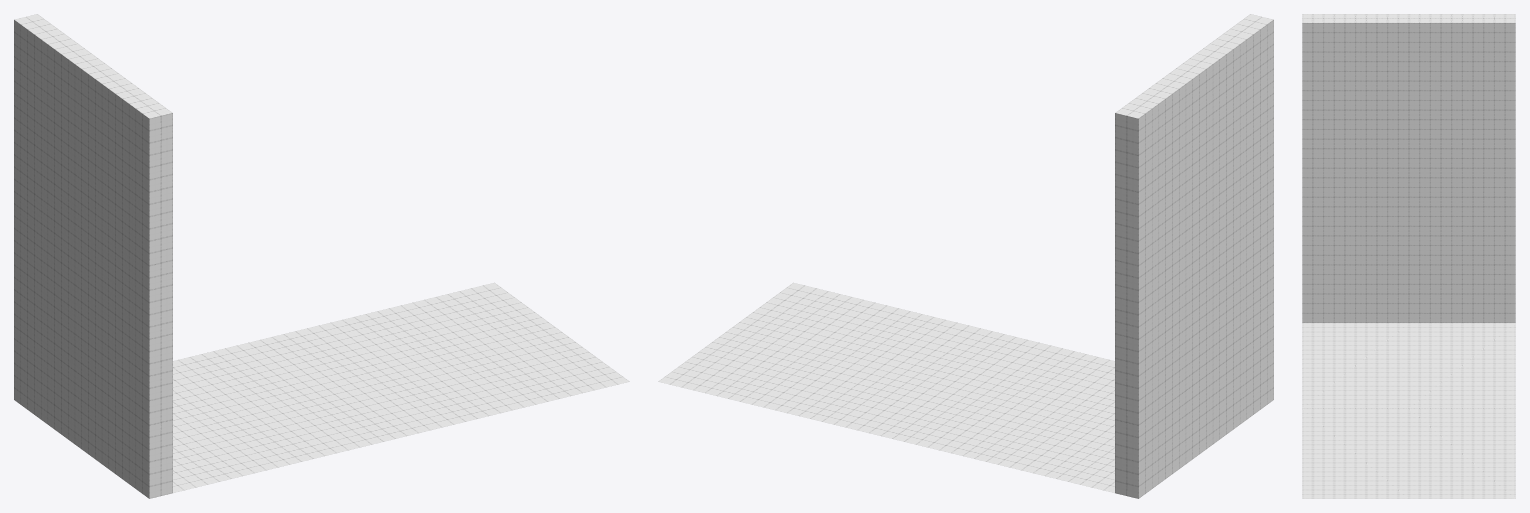
The model's file is Frame_Empty.fbx.
The picture shows the model from 3 angles, left to right: view 1: azimuth 30°, elevation 25°; view 2: azimuth 150°, elevation 25°; view 3: azimuth 270°, elevation 25°; orthographic projection. The views are drawn at different scales.
Visible parts, largest first — view 1: Frame_Empty__1_; view 2: Frame_Empty__1_; view 3: Frame_Empty__1_.
Boxes of the visible parts, x1,y1,x2,y2 form: Frame_Empty__1_: [14, 14, 629, 498]; Frame_Empty__1_: [658, 14, 1273, 498]; Frame_Empty__1_: [1302, 14, 1515, 498].
Bounding box in the file's own units: 4100 × 3100 × 2000.
Materials: 1 (1 with a texture image).
